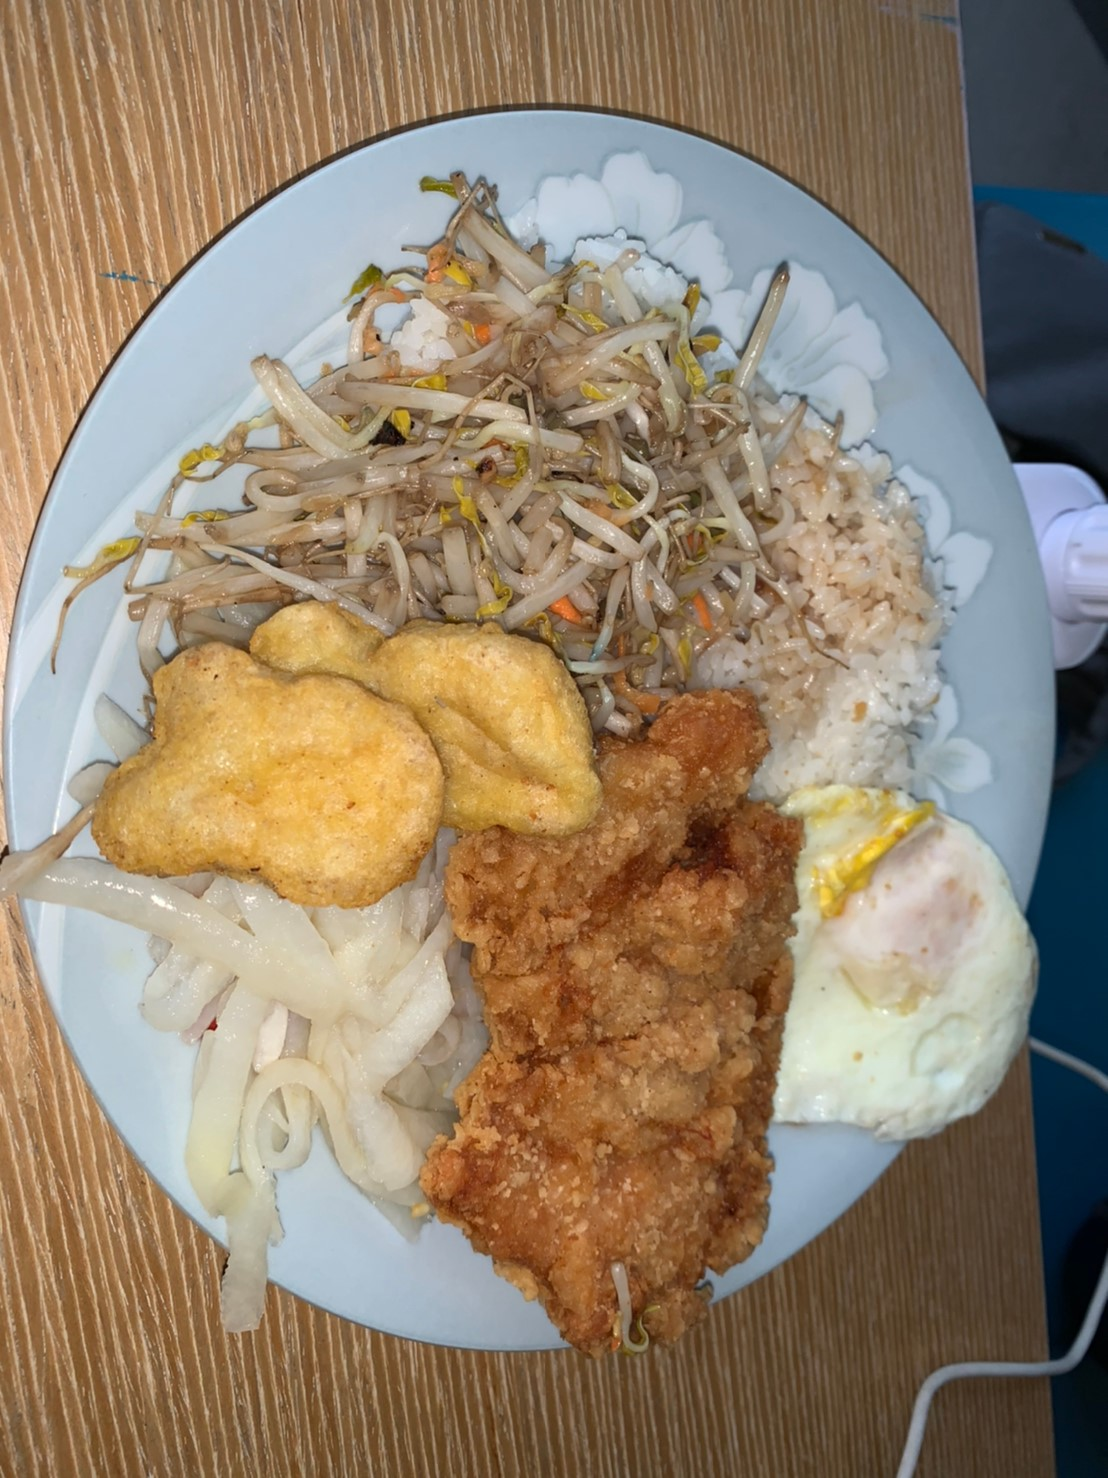chicken_nuggets: (99, 607, 594, 900)
fried_chicken: (424, 685, 807, 1338)
fried_eggs: (787, 787, 1039, 1144)
mung_bean_sprouts: (329, 297, 729, 641)
rice: (782, 461, 937, 793)
